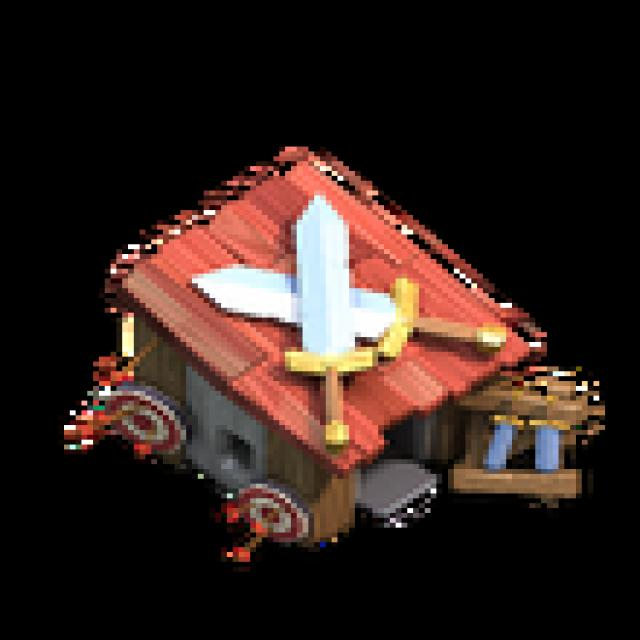barracks: (55, 144, 612, 605)
